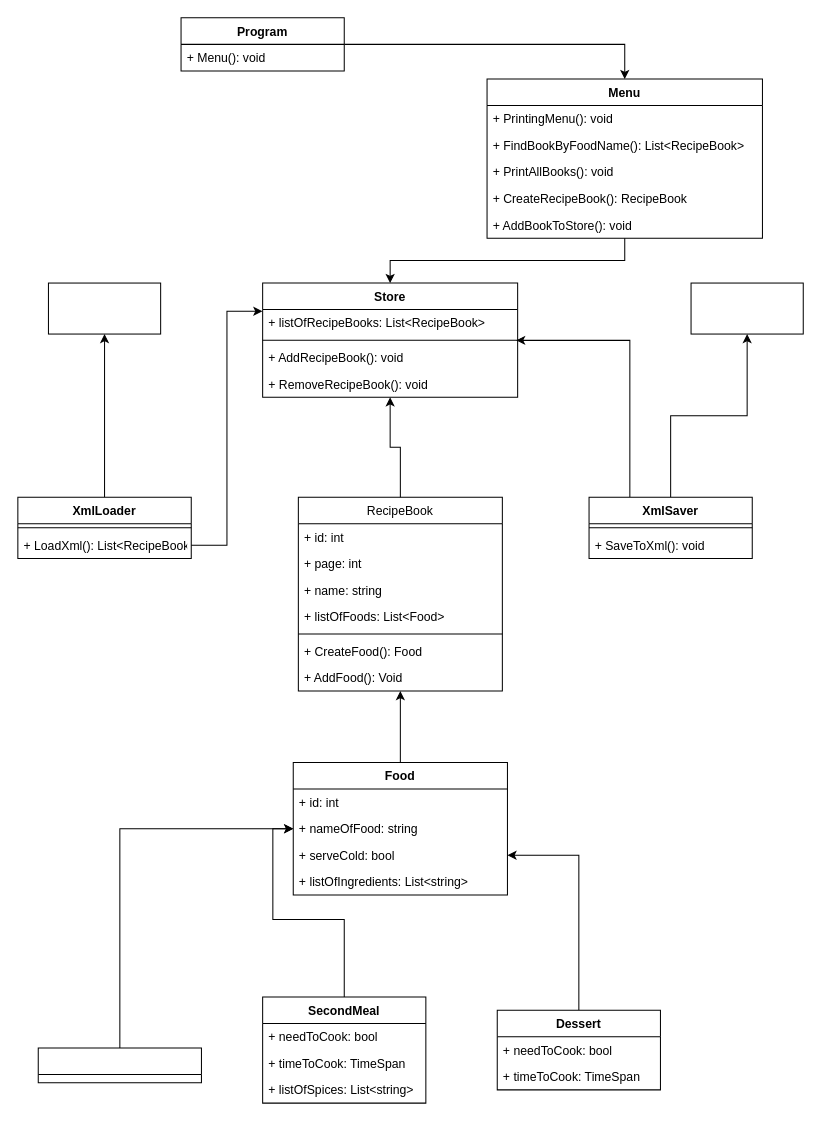
Image size: 821x1124. Some labels were removed from this diagram. Here are the shapes that lost their labels. From the top down, the centre of each, then its label:
At (x=104, y=308): "«interface» ILoader".
At (x=746, y=308): "«interface» ISaver".
At (x=119, y=1065): "Appetizer".
